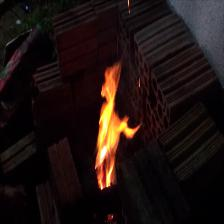fire: (81, 59, 149, 197)
